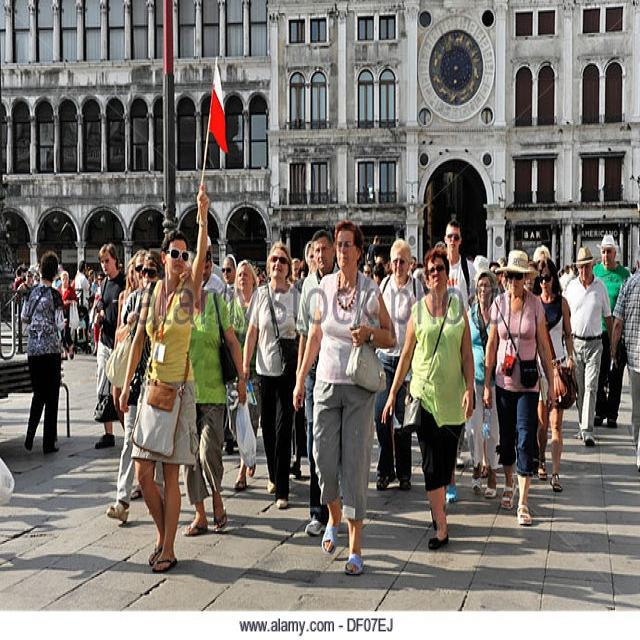body: (291, 215, 399, 577), (117, 177, 211, 576), (378, 243, 477, 551), (480, 247, 558, 528), (240, 240, 302, 510), (106, 247, 165, 522), (182, 289, 247, 538), (295, 228, 343, 537), (373, 237, 426, 492), (530, 258, 578, 495), (562, 241, 615, 446), (18, 248, 65, 455), (464, 270, 501, 501), (591, 232, 632, 430), (92, 240, 130, 450), (609, 253, 640, 477), (51, 254, 109, 356), (112, 255, 139, 408), (520, 232, 579, 302), (192, 227, 238, 301), (443, 217, 479, 310), (465, 245, 511, 307), (406, 237, 447, 298), (54, 268, 79, 362), (284, 232, 322, 292), (2, 244, 42, 298), (357, 231, 393, 283), (289, 402, 310, 484), (442, 448, 471, 507), (74, 258, 93, 348), (234, 257, 260, 313), (219, 251, 239, 306), (131, 246, 151, 292), (249, 256, 272, 286), (616, 247, 640, 275)
